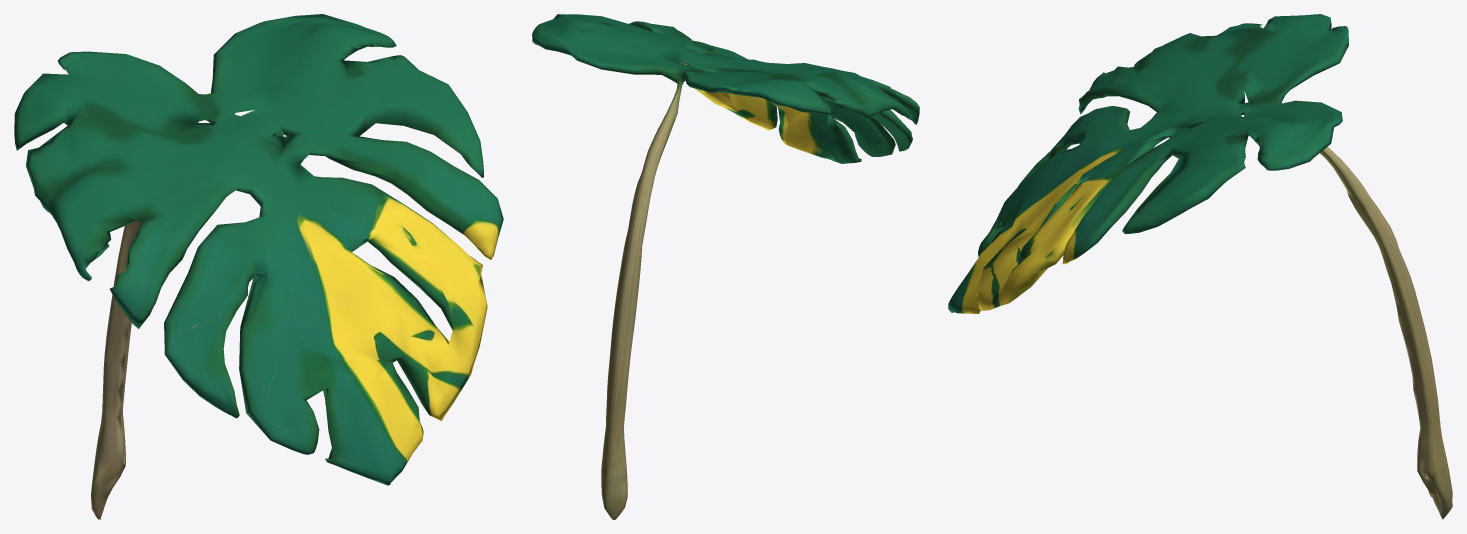
File: mon_green_lemonpatch.glb
The picture shows the model from 3 angles, left to right: view 1: azimuth 30°, elevation 25°; view 2: azimuth 150°, elevation 25°; view 3: azimuth 270°, elevation 25°; orthographic projection. The views are drawn at different scales.
Bounding box in the file's own units: 1.63 × 1.99 × 2.
1 material, 1 textured.
